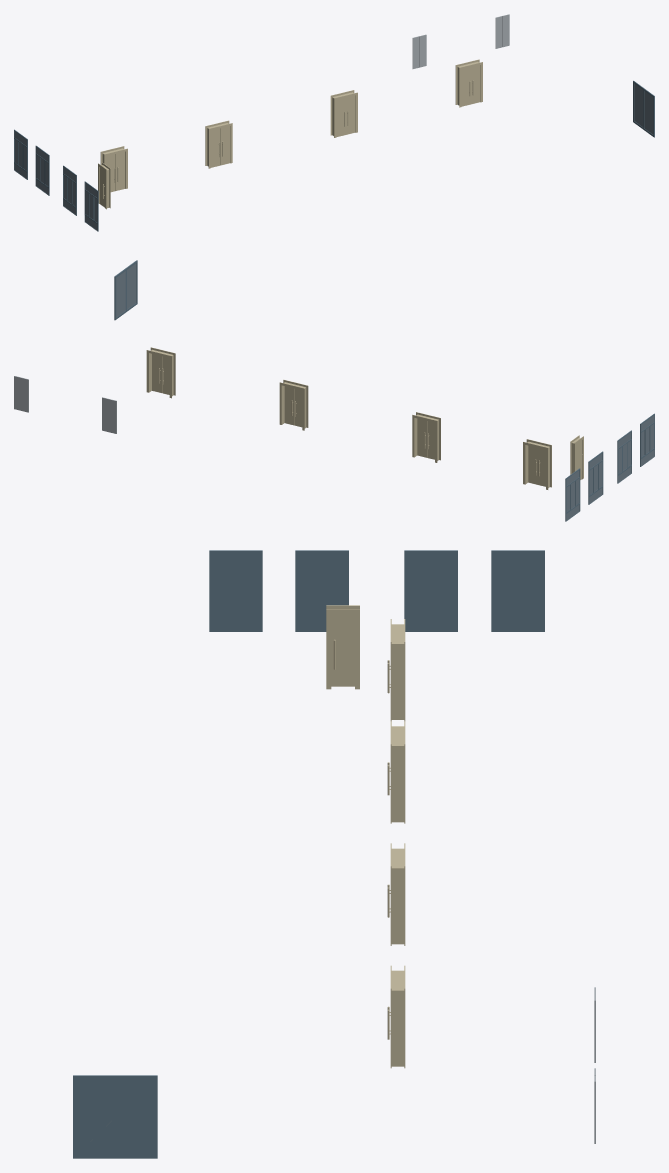
The model's file is office_20230504_doors_windows.glb.
3 views of the same model, one above another, from view 1: azimuth 30°, elevation 25°; view 2: azimuth 150°, elevation 25°; view 3: azimuth 270°, elevation 25° (orthographic). The views are drawn at different scales.
Visible parts, largest first — view 1: Rectangle196, Line011, Line010, Line009, Rectangle528, Rectangle297, Rectangle536, Rectangle304, Rectangle282, Rectangle284, Rectangle286, Rectangle287 (+7 smaller); view 2: Rectangle196, Line011, Line010, Line008, Line009, Rectangle297, Rectangle304, Rectangle528, Rectangle536, Rectangle195, Rectangle282, Rectangle284 (+2 smaller); view 3: Rectangle195, Rectangle290, Rectangle530, Rectangle522, Rectangle298, Rectangle306, Line009, Line010, Line011, Line008, Line012.
Boxes of the visible parts, x1,y1,x2,y2 form: Rectangle196: (634, 84, 653, 134); Line011: (455, 59, 482, 107); Line010: (330, 90, 357, 137); Line009: (205, 120, 232, 168); Rectangle528: (36, 147, 48, 194); Rectangle297: (85, 183, 97, 230); Rectangle536: (14, 131, 27, 178); Rectangle304: (63, 167, 76, 214); Rectangle282: (115, 151, 125, 190); Rectangle284: (220, 126, 230, 165); Rectangle286: (345, 95, 355, 134); Rectangle287: (461, 67, 470, 106); Rectangle196: (116, 263, 136, 316); Line011: (146, 347, 175, 398); Line010: (279, 379, 308, 430); Line008: (523, 439, 551, 489); Line009: (412, 412, 440, 462); Rectangle297: (641, 415, 654, 465); Rectangle304: (618, 432, 631, 482); Rectangle528: (589, 453, 602, 503); Rectangle536: (566, 470, 579, 520); Rectangle195: (114, 260, 137, 320); Rectangle282: (528, 445, 538, 484); Rectangle284: (417, 418, 427, 457); Rectangle195: (73, 1075, 157, 1158); Rectangle290: (209, 550, 262, 631); Rectangle530: (491, 550, 544, 631); Rectangle522: (404, 550, 457, 631); Rectangle298: (295, 550, 348, 631); Rectangle306: (331, 614, 354, 686); Line009: (390, 721, 405, 823); Line010: (390, 843, 405, 945); Line011: (390, 965, 405, 1068); Line008: (390, 619, 405, 721); Line012: (326, 605, 359, 689).
Size of the model in its own units: 3.74 by 0.334 by 1.62.
